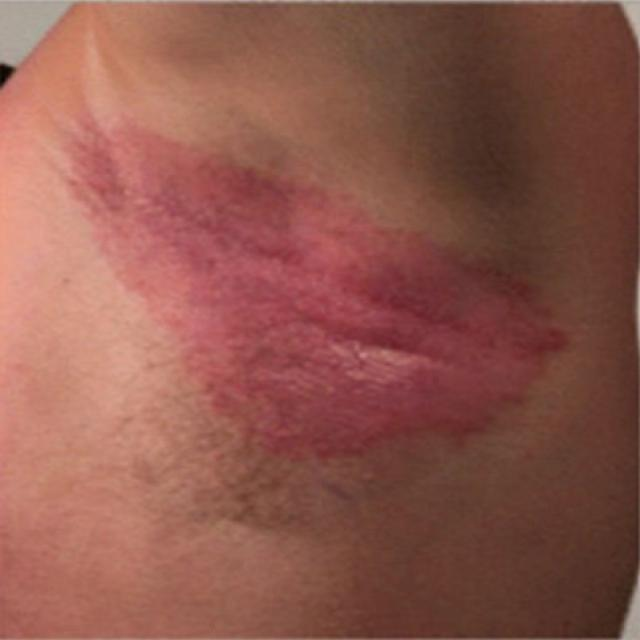Psoriasis Inversa: (0, 4, 637, 636)
